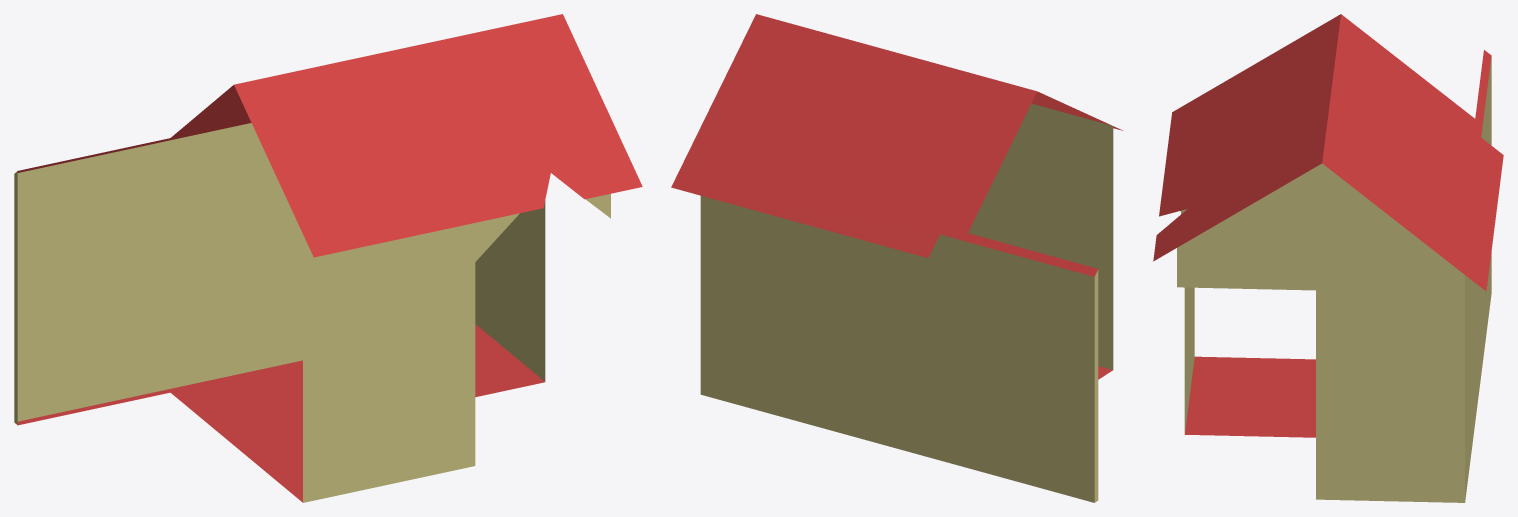
The picture shows the model from 3 angles, left to right: view 1: azimuth 30°, elevation 25°; view 2: azimuth 150°, elevation 25°; view 3: azimuth 270°, elevation 25°; orthographic projection. The views are drawn at different scales.
Size of the model in its own units: 17.22 by 11.63 by 12.66.
